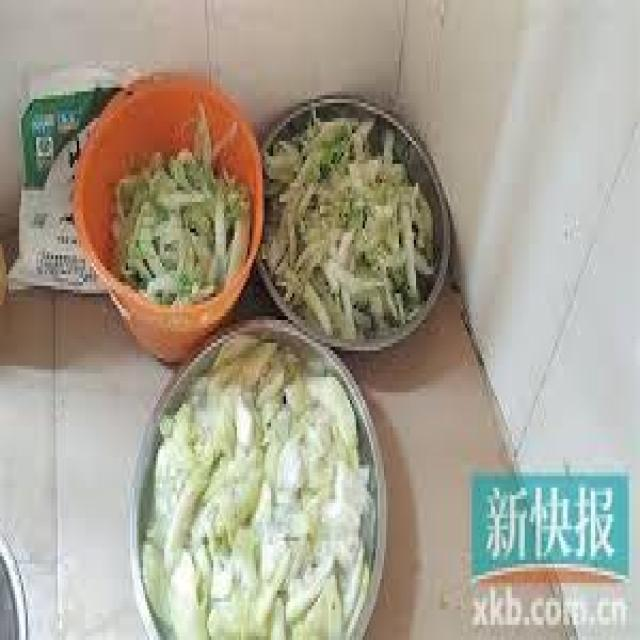metal: (131, 320, 388, 639), (259, 96, 452, 350), (0, 538, 27, 639)
organic: (181, 396, 344, 606), (280, 140, 415, 301), (113, 142, 240, 272)
plastic: (75, 77, 264, 361)
